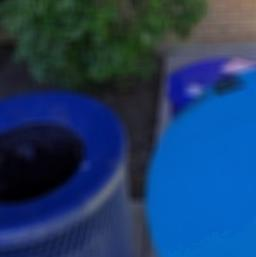algae: (148, 64, 256, 257)
